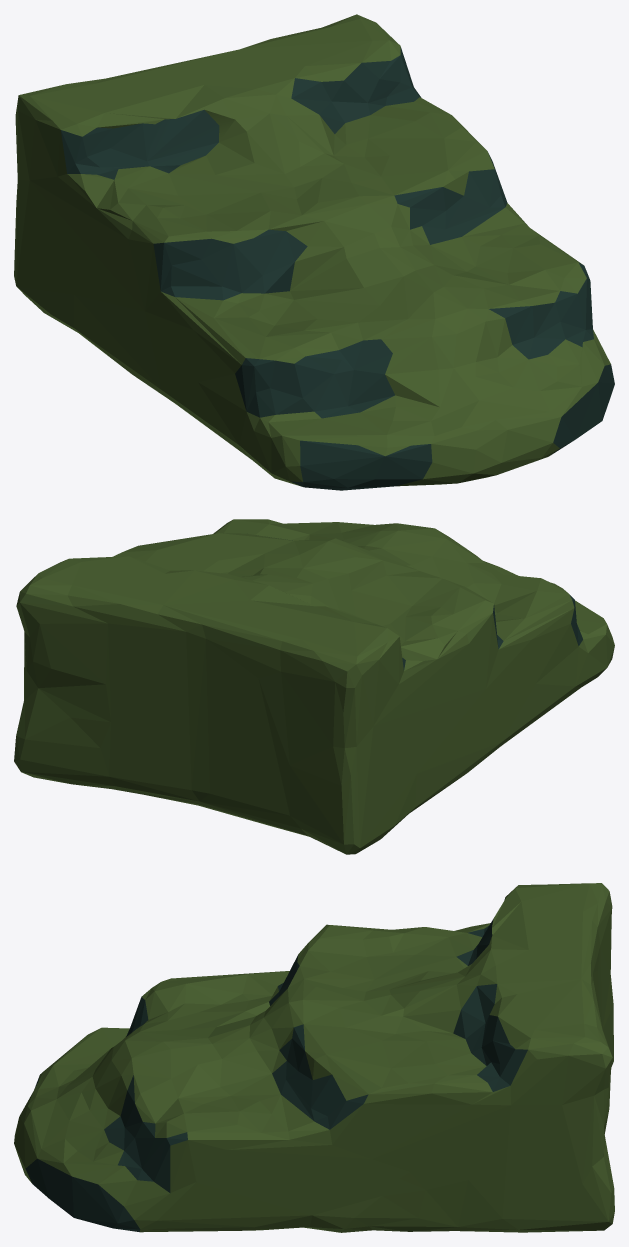
File: _T__road.FBX
The picture shows the model from 3 angles, top to bottom: view 1: azimuth 30°, elevation 25°; view 2: azimuth 150°, elevation 25°; view 3: azimuth 270°, elevation 25°; orthographic projection. The views are drawn at different scales.
Parts seen in each view (by area): view 1: _T__road; view 2: _T__road; view 3: _T__road.
Part boxes in pixels (<box>): _T__road: <box>14,14,614,490</box>; _T__road: <box>14,519,614,854</box>; _T__road: <box>14,883,614,1232</box>.
Bounding box in the file's own units: 208 × 319 × 117.
